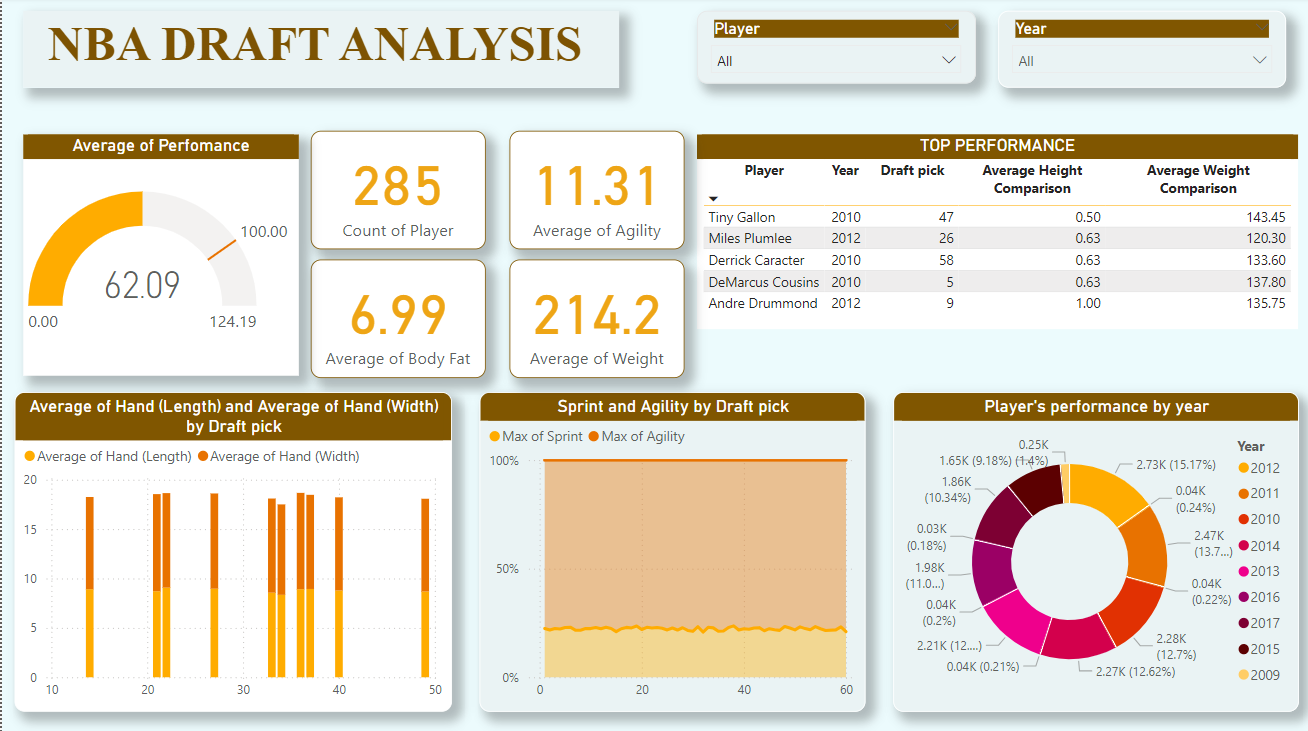

The dashboard page shown, as its layout file describes it:
{"tool":"powerbi","page":{"name":"Page 1","canvas":[1280,720],"ordinal":0},"visuals":[{"type":"slicer","fields":{"Values":["Table1.Player"]},"box":[679.9,13.5,272.5,71.5],"z":0},{"type":"textbox","box":[20.2,13.5,582.8,75.5],"z":1000},{"type":"slicer","fields":{"Values":["Table1.Year"]},"box":[974,13.5,282,75.5],"z":2000},{"type":"donutChart","title":"Player''s performance by year","fields":{"Category":["Table1.Year"],"Y":["Table1.Perfomance","Table1.Player"]},"box":[871.5,385.8,396.6,313],"z":3000},{"type":"hundredPercentStackedAreaChart","title":"Sprint and  Agility by Draft pick","fields":{"Category":["Table1.Draft pick"],"Y":["Table1.Sprint","Table1.Agility"]},"box":[466.8,385.8,377.7,313],"z":4000},{"type":"tableEx","title":"TOP PERFORMANCE","fields":{"Values":["Table1.Player","Table1.Year","Table1.Draft pick","Table1.Average Height Comparison","Table1.Average Weight Comparison"]},"box":[679.9,134.9,588.2,190.2],"z":5000},{"type":"card","fields":{"Values":["Table1.Player"]},"box":[302.2,130.9,171,116],"z":6000},{"type":"card","fields":{"Values":["Table1.Agility"]},"box":[496.5,130.9,171.3,116],"z":7000},{"type":"card","fields":{"Values":["Table1.Body Fat"]},"box":[302.2,256.3,171,116],"z":8000},{"type":"card","fields":{"Values":["Table1.Weight"]},"box":[496.5,256.3,171.3,116],"z":9000},{"type":"columnChart","fields":{"Category":["Table1.Draft pick"],"Y":["Table1.Hand (Length)","Table1.Hand (Width)"]},"box":[12.1,385.8,427.7,313],"z":10000},{"type":"gauge","fields":{"Y":["Table1.Perfomance"]},"box":[20.2,134.9,269.8,236.1],"z":11000}]}

Visuals, with their boxes in screenshot pixels (x1, y1, x2, y2), scaled from the page's 1280x720 canvas onto the 1308x731 screenshot:
slicer - Table1.Player: [695, 14, 973, 86]
textbox: [21, 14, 616, 90]
slicer - Table1.Year: [995, 14, 1283, 90]
"Player''s performance by year" donutChart: [891, 392, 1296, 709]
"Sprint and  Agility by Draft pick" hundredPercentStackedAreaChart: [477, 392, 863, 709]
"TOP PERFORMANCE" tableEx: [695, 137, 1296, 330]
card - Table1.Player: [309, 133, 484, 251]
card - Table1.Agility: [507, 133, 682, 251]
card - Table1.Body Fat: [309, 260, 484, 378]
card - Table1.Weight: [507, 260, 682, 378]
columnChart - Table1.Draft pick x Table1.Hand (Length): [12, 392, 449, 709]
gauge - Table1.Perfomance: [21, 137, 296, 377]
